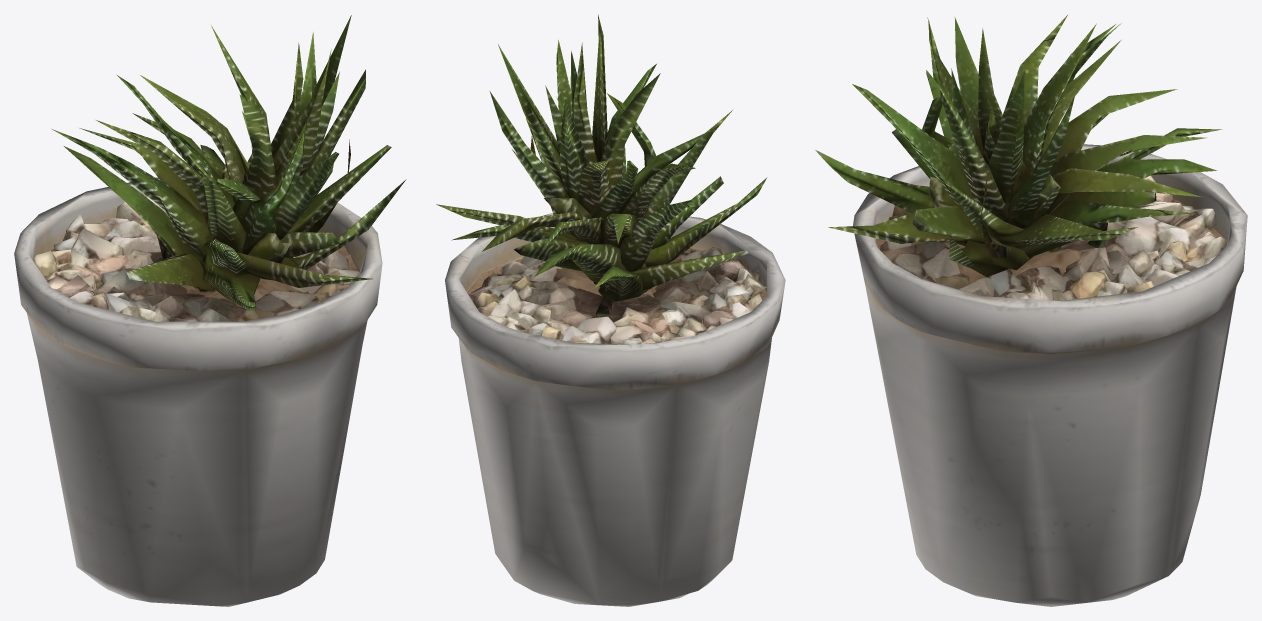
The model's file is potted_plant_04.glb.
The picture shows the model from 3 angles, left to right: view 1: azimuth 30°, elevation 25°; view 2: azimuth 150°, elevation 25°; view 3: azimuth 270°, elevation 25°; orthographic projection. The views are drawn at different scales.
Parts seen in each view (by area): view 1: potted_plant_04_ground; view 2: potted_plant_04_ground; view 3: potted_plant_04_ground.
Part boxes in pixels (box(x1,y1,x2,y2)): potted_plant_04_ground: box(14, 15, 406, 606); potted_plant_04_ground: box(436, 14, 785, 606); potted_plant_04_ground: box(815, 15, 1247, 606).
Size of the model in its own units: 0.1672 by 0.2671 by 0.1825.
Materials: 1 (1 with a texture image).
